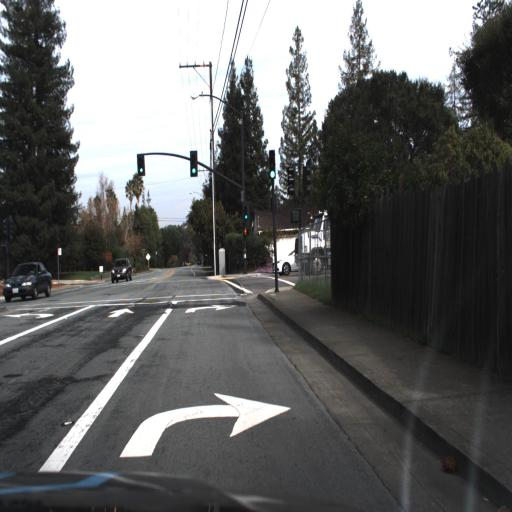car: (4, 261, 54, 303), (276, 248, 296, 275), (111, 259, 131, 282)
trafficLight-Green: (267, 143, 277, 186), (188, 148, 198, 179), (139, 149, 147, 177), (243, 197, 249, 226)
truck: (294, 215, 331, 276)
